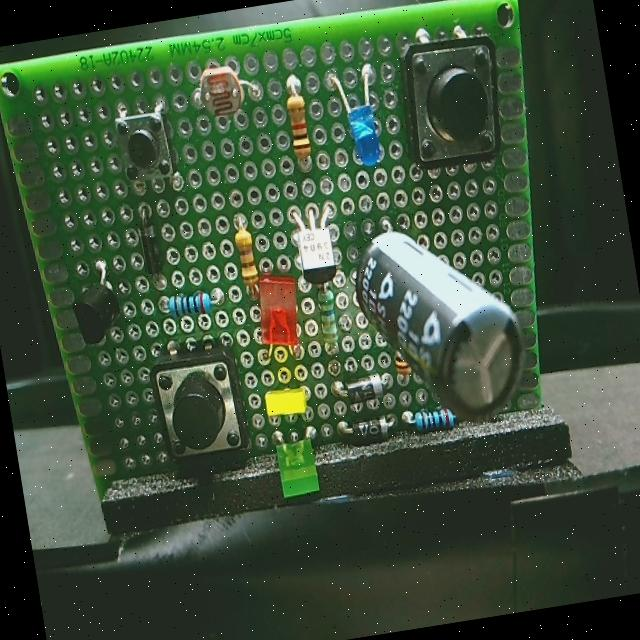Electrolytic capacitor: (336, 192, 538, 444)
cds: (184, 59, 270, 130)
diode: (130, 201, 172, 298), (328, 368, 398, 414), (334, 410, 403, 454)
led: (320, 60, 398, 185), (250, 272, 311, 366), (268, 423, 330, 507), (261, 381, 319, 426)
resistor: (276, 72, 322, 180), (228, 211, 264, 306), (158, 282, 230, 328), (313, 276, 348, 362), (402, 399, 458, 442), (392, 344, 417, 388)
switch: (389, 12, 518, 184), (142, 329, 260, 479), (109, 94, 190, 202)
transistor: (63, 252, 136, 354), (284, 199, 348, 291)
